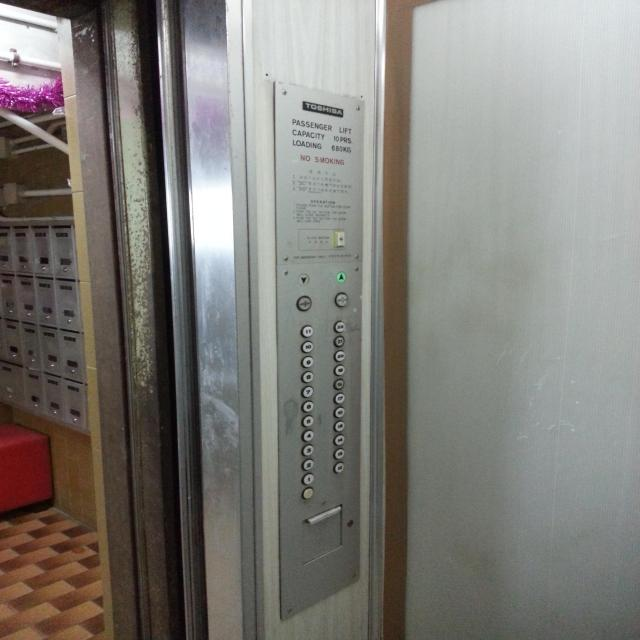1: (302, 472, 314, 484)
10: (300, 340, 314, 353)
11: (301, 325, 314, 337)
12: (332, 462, 345, 473)
13: (333, 448, 345, 459)
14: (333, 434, 345, 446)
15: (332, 420, 344, 432)
16: (334, 407, 344, 419)
17: (333, 392, 345, 404)
18: (333, 378, 345, 390)
19: (333, 364, 345, 376)
2: (301, 458, 314, 471)
20: (334, 349, 346, 362)
21: (333, 335, 346, 347)
22: (333, 321, 345, 334)
3: (301, 443, 314, 457)
4: (301, 429, 315, 442)
5: (300, 414, 314, 427)
6: (301, 400, 314, 412)
7: (301, 385, 314, 398)
8: (301, 370, 314, 383)
9: (301, 355, 314, 368)
blur: (301, 486, 314, 499)
close: (333, 291, 349, 307)
down: (297, 272, 310, 287)
open: (295, 294, 313, 312)
text: (335, 230, 346, 247)
up: (335, 270, 347, 283)
